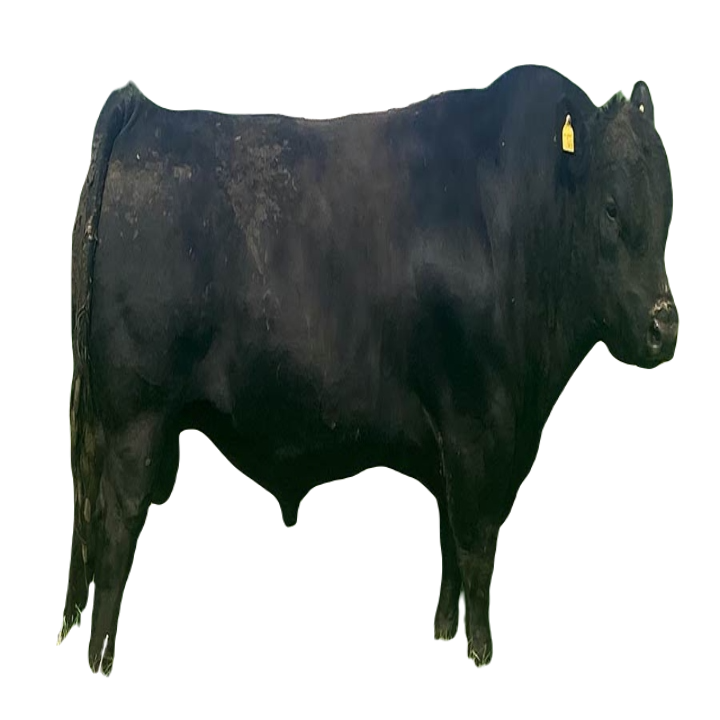Cow: (56, 63, 682, 673)
